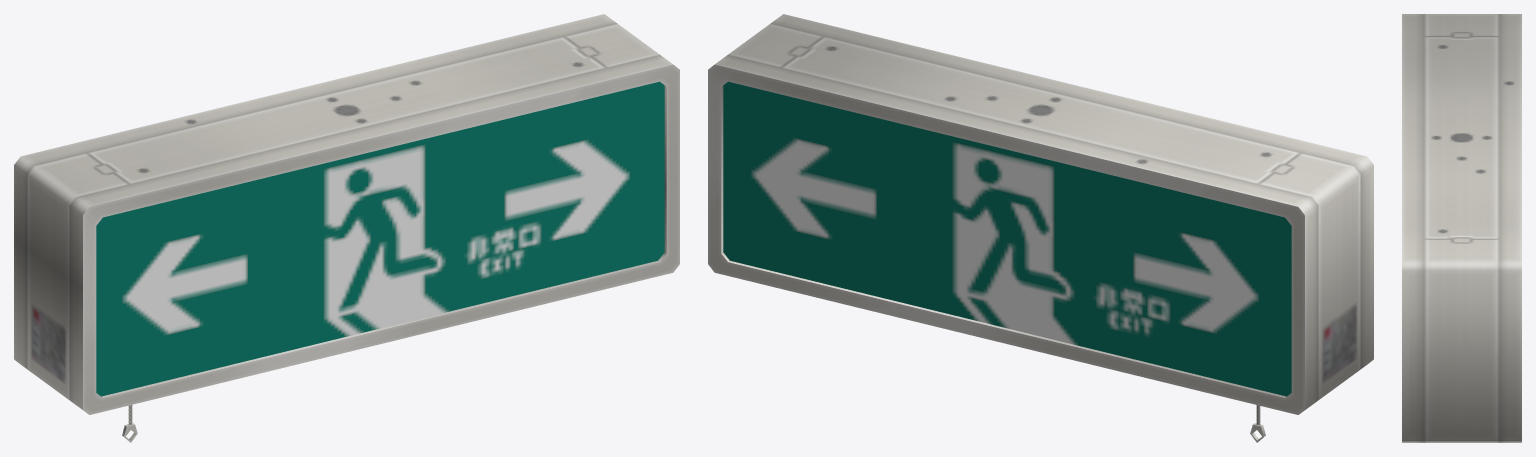
The model's file is SHW_Exitlight_01_10.fbx.
3 views of the same model, side by side, from view 1: azimuth 30°, elevation 25°; view 2: azimuth 150°, elevation 25°; view 3: azimuth 270°, elevation 25° (orthographic). The views are drawn at different scales.
Visible parts, largest first — view 1: shw_exitlight_01_10; view 2: shw_exitlight_01_10; view 3: shw_exitlight_01_10.
Boxes of the visible parts, box(x1,y1,x2,y2) form: shw_exitlight_01_10: box(14, 14, 679, 442); shw_exitlight_01_10: box(708, 14, 1373, 442); shw_exitlight_01_10: box(1402, 14, 1521, 442).
Size of the model in its own units: 90 by 40.17 by 18.
